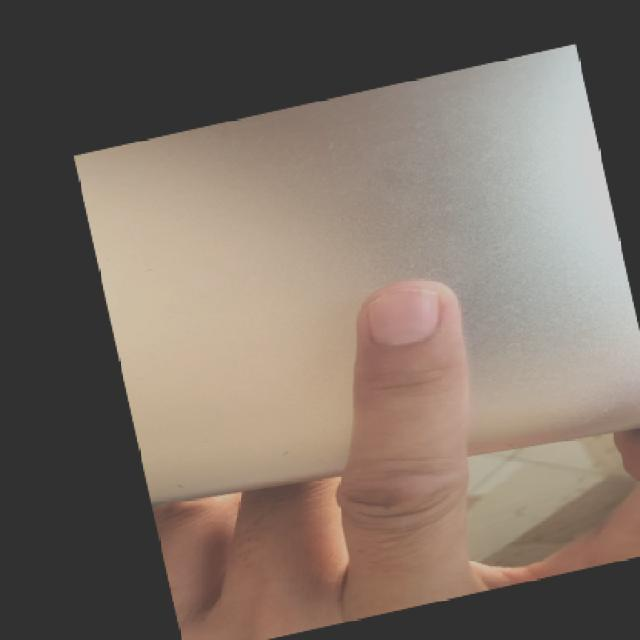Nail: (366, 289, 441, 345)
